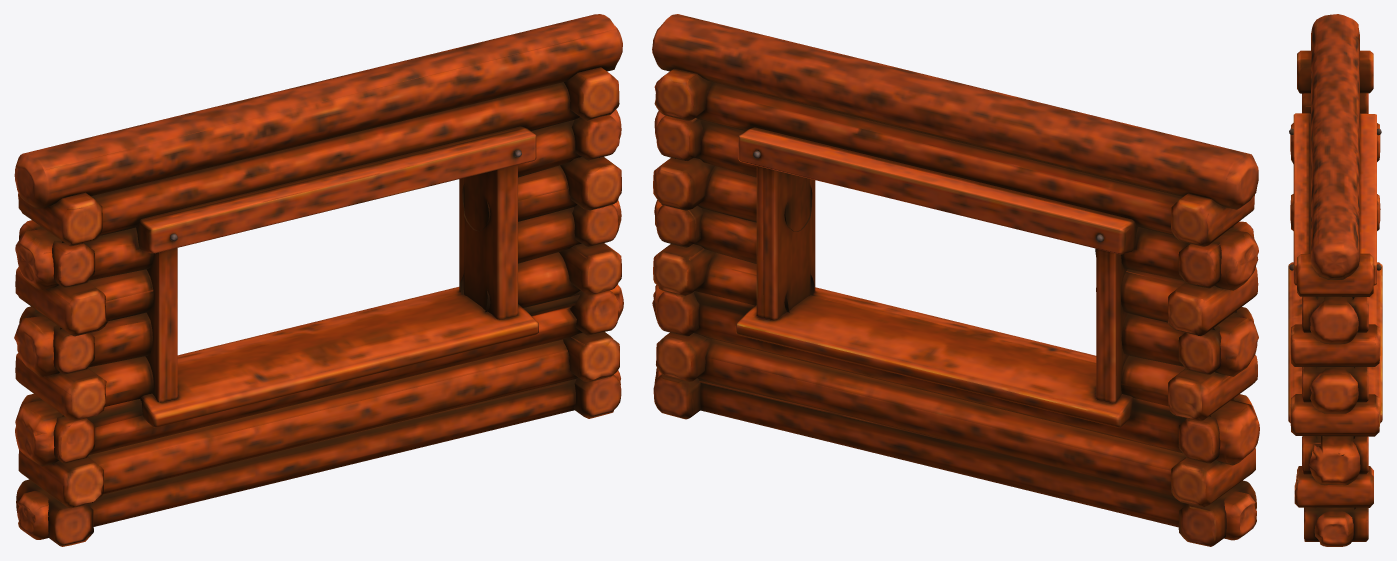
Rendered from HK_wall_shop.glb.
3 views of the same model, side by side, from view 1: azimuth 30°, elevation 25°; view 2: azimuth 150°, elevation 25°; view 3: azimuth 270°, elevation 25° (orthographic). The views are drawn at different scales.
Visible parts, largest first — view 1: geometry_0; view 2: geometry_0; view 3: geometry_0.
Part boxes in pixels (bbox=[...]): geometry_0: bbox=[14, 14, 623, 546]; geometry_0: bbox=[652, 14, 1259, 546]; geometry_0: bbox=[1288, 14, 1382, 546].
Size of the model in its own units: 0.9556 by 0.5913 by 0.165.
1 material, 1 textured.
